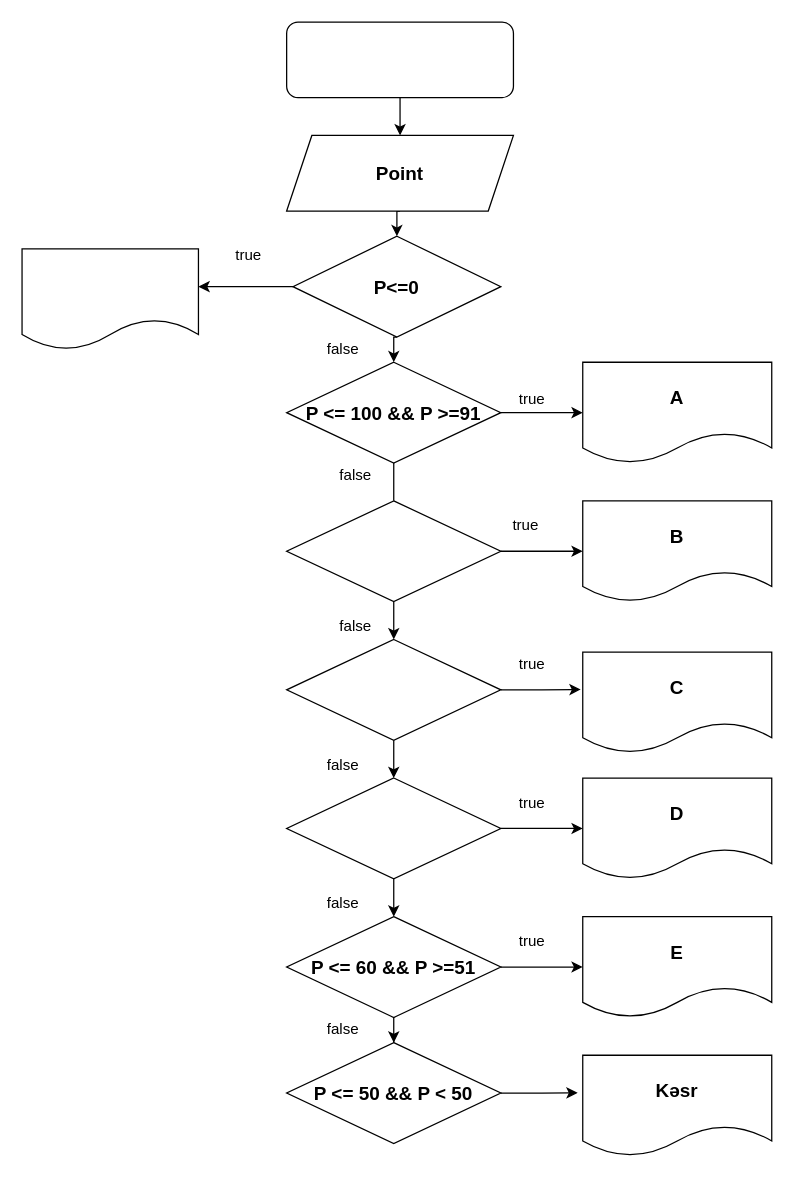
This 794x1178 diagram has some shape labels left out. Each missing label, with the box of its shape:
Error: (21, 248, 198, 350)
P <= 70 && P >=61: (285, 777, 501, 879)
P <= 80 && P >=71: (285, 638, 501, 740)
P <= 90 && P >=81: (285, 500, 501, 602)
Start: (285, 21, 513, 98)
